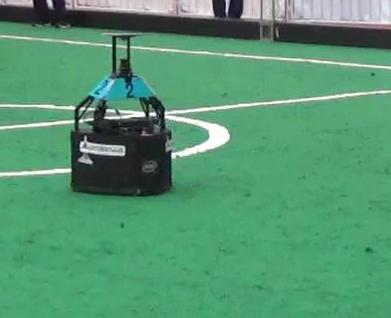robot: (65, 27, 178, 199)
